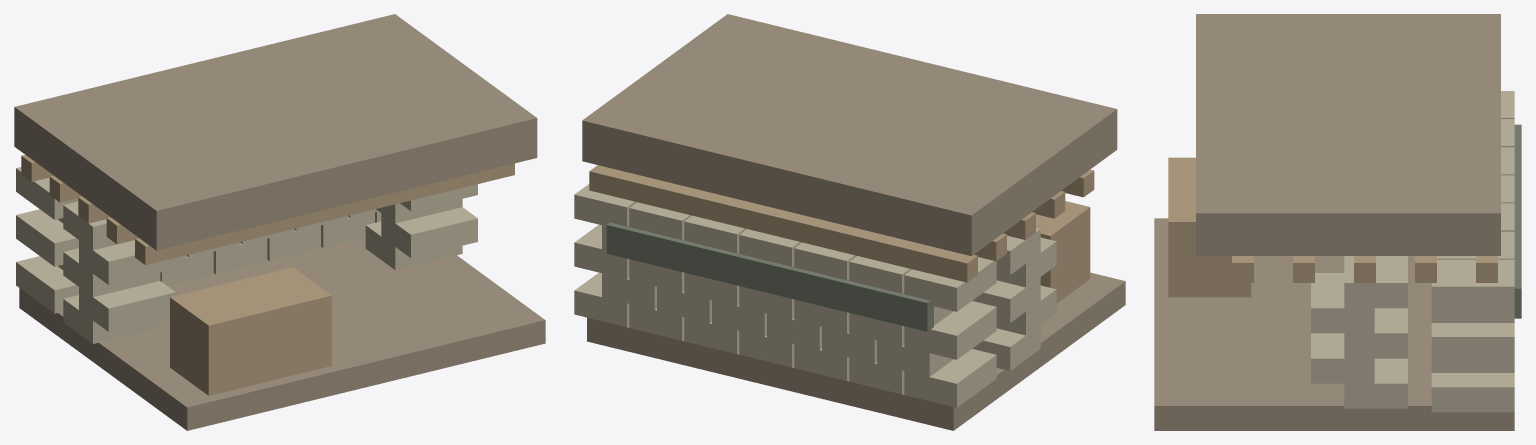
File: armoured-column-and-field-camp-observation-post-55d09c6a__23715.glb
The picture shows the model from 3 angles, left to right: view 1: azimuth 30°, elevation 25°; view 2: azimuth 150°, elevation 25°; view 3: azimuth 270°, elevation 25°; orthographic projection. The views are drawn at different scales.
Parts seen in each view (by area): view 1: observation-post; view 2: observation-post; view 3: observation-post.
Boxes of the visible parts, <box> form: observation-post: <box>14,14,545,430</box>; observation-post: <box>574,14,1125,430</box>; observation-post: <box>1154,14,1521,430</box>.
Bounding box in the file's own units: 3.41 × 1.78 × 2.65.
